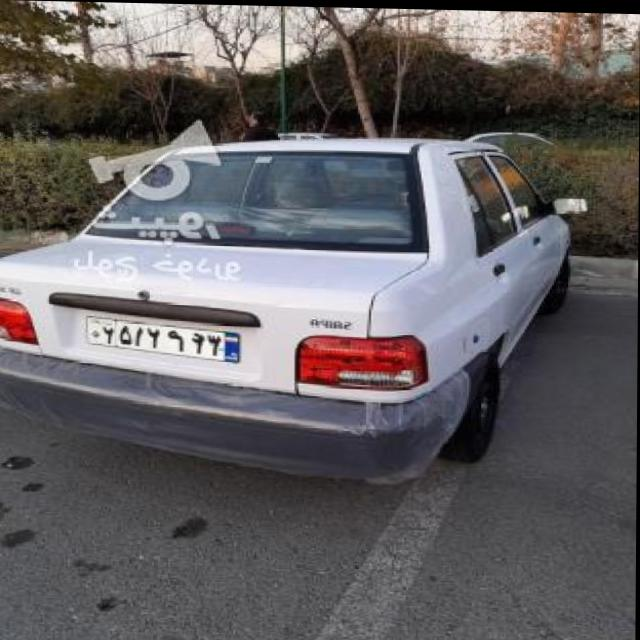licence: (86, 314, 248, 363)
